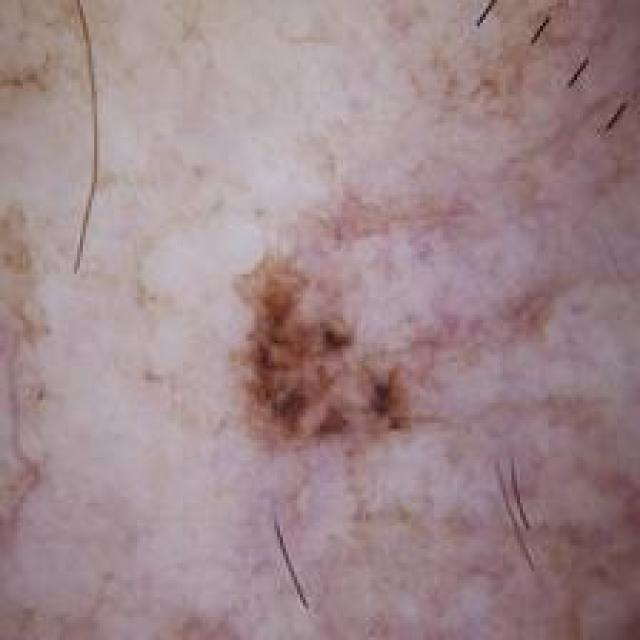Cancer: (203, 235, 450, 464)
